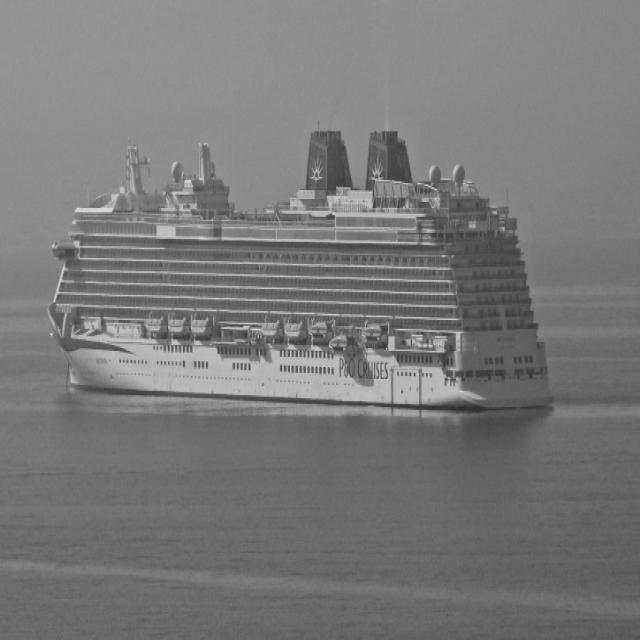cruises: (44, 115, 570, 435)
